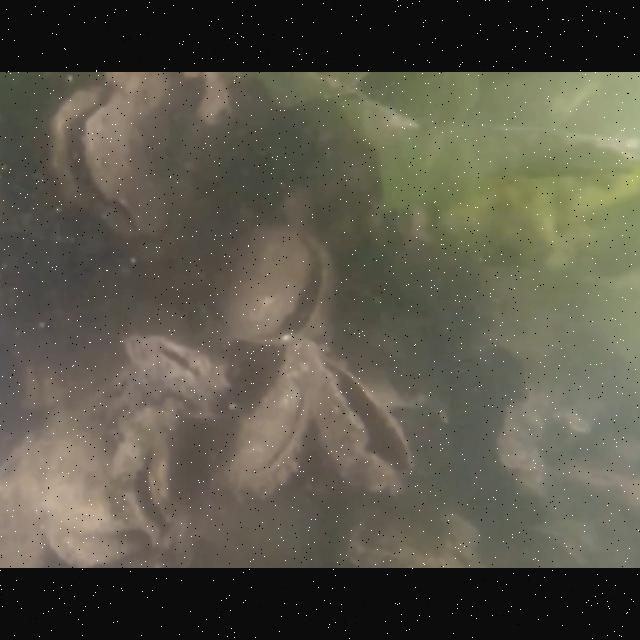Oyster-Closed: (21, 408, 148, 566)
Oyster-Open: (286, 338, 414, 494), (46, 82, 166, 240), (216, 218, 338, 346), (228, 366, 316, 500), (110, 404, 180, 544), (121, 328, 231, 406)
